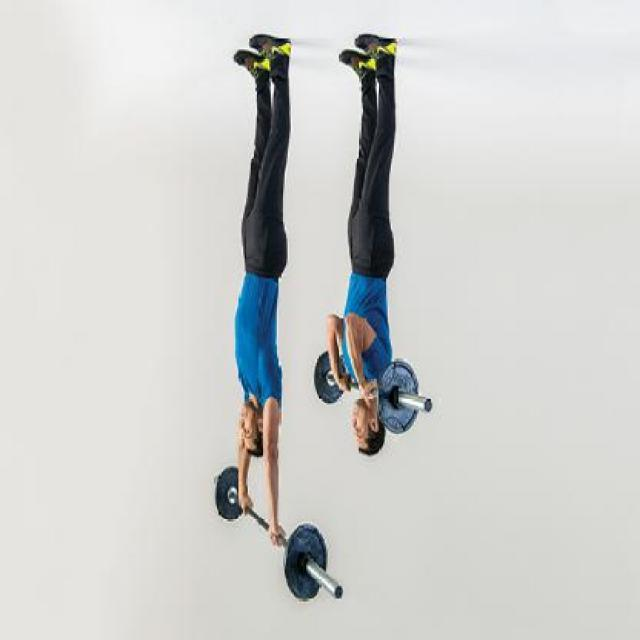Barbell: (331, 578, 346, 604), (421, 392, 434, 416)
